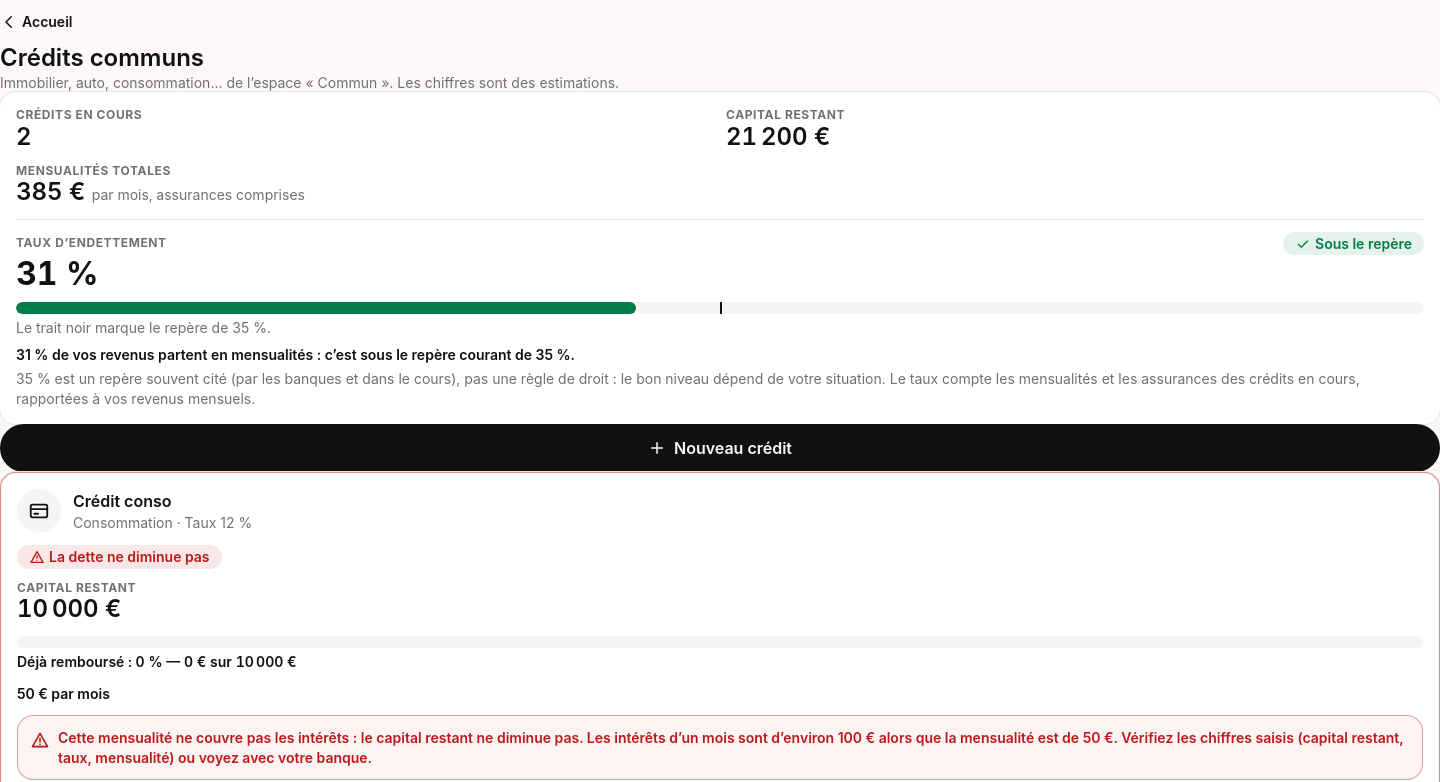
DettesPage › creation › explains where to find the remaining capital
The image size is (1440, 782).
Click the button "Nouveau crédit".
click(720, 448)  # box [0,424,1439,472]
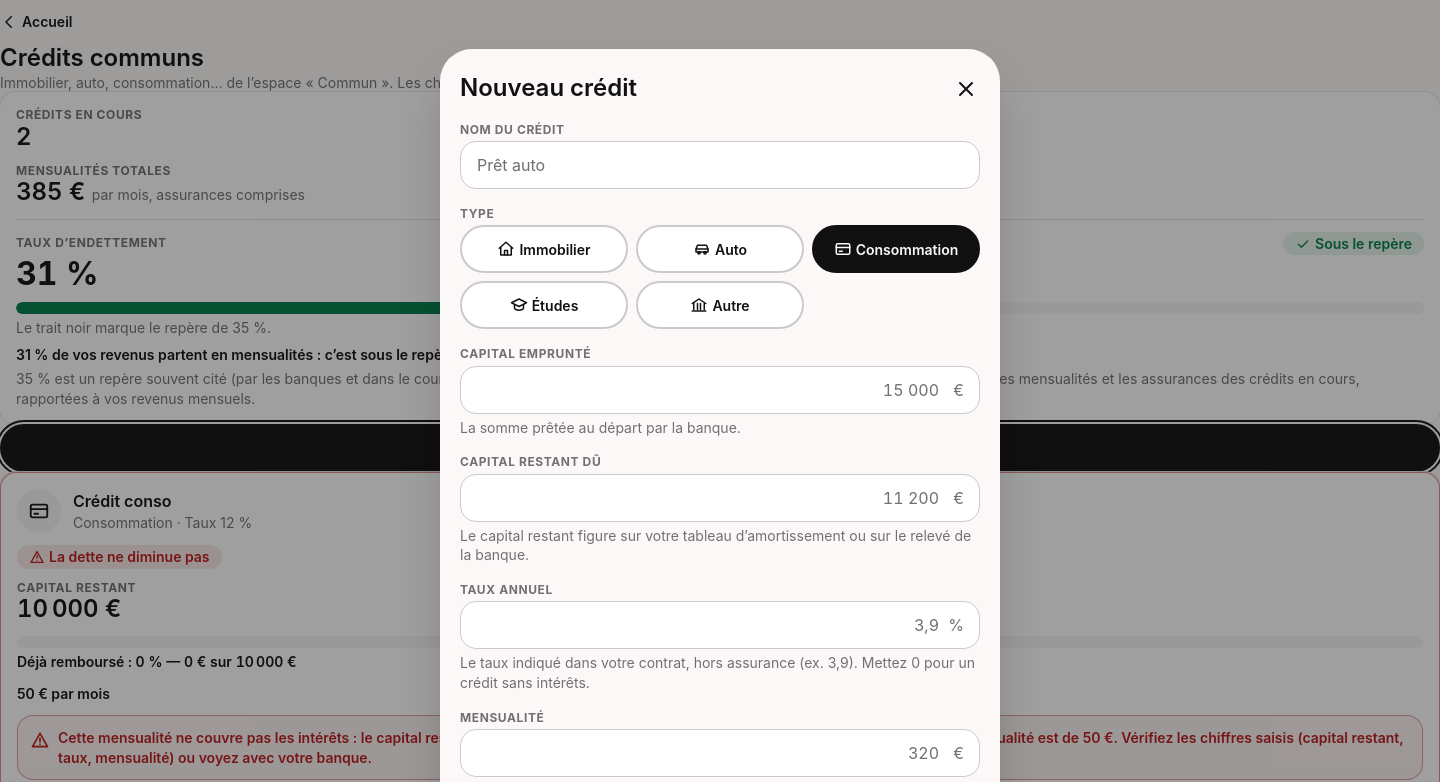
Expected: the text "Le capital restant figure sur votre tableau d’amortissement ou sur le relevé de la banque." is shown, [460,527,971,563]
